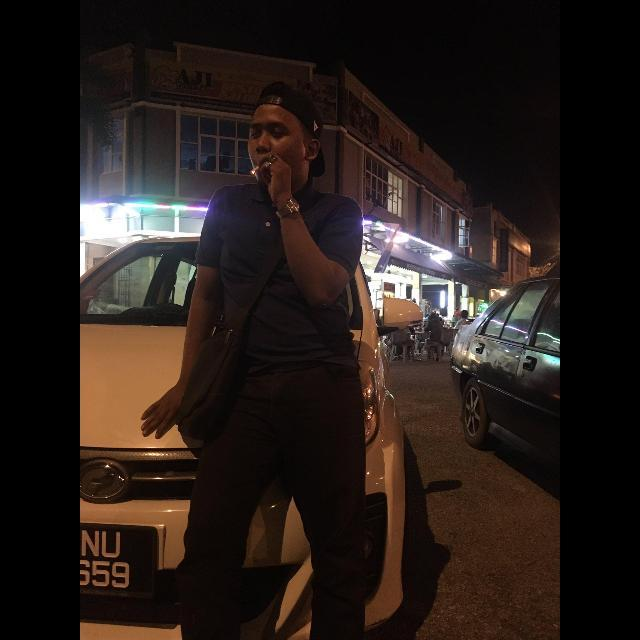rokok: (250, 164, 260, 176)
